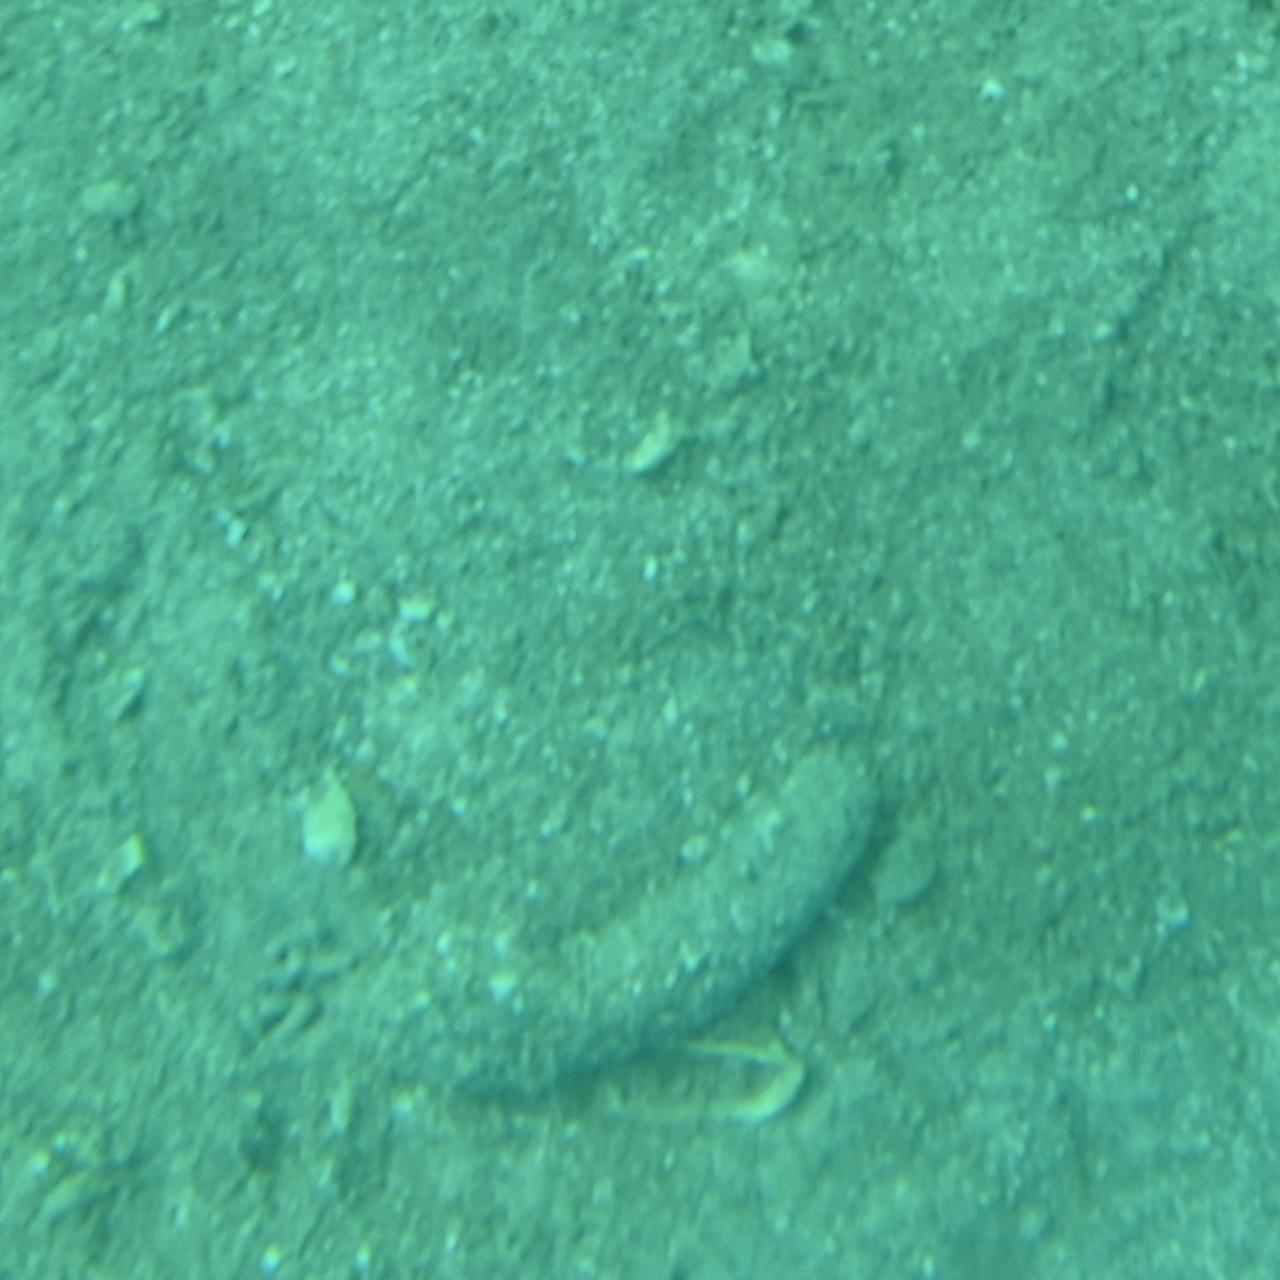Holothuria tubulosa: (354, 736, 926, 1119)
